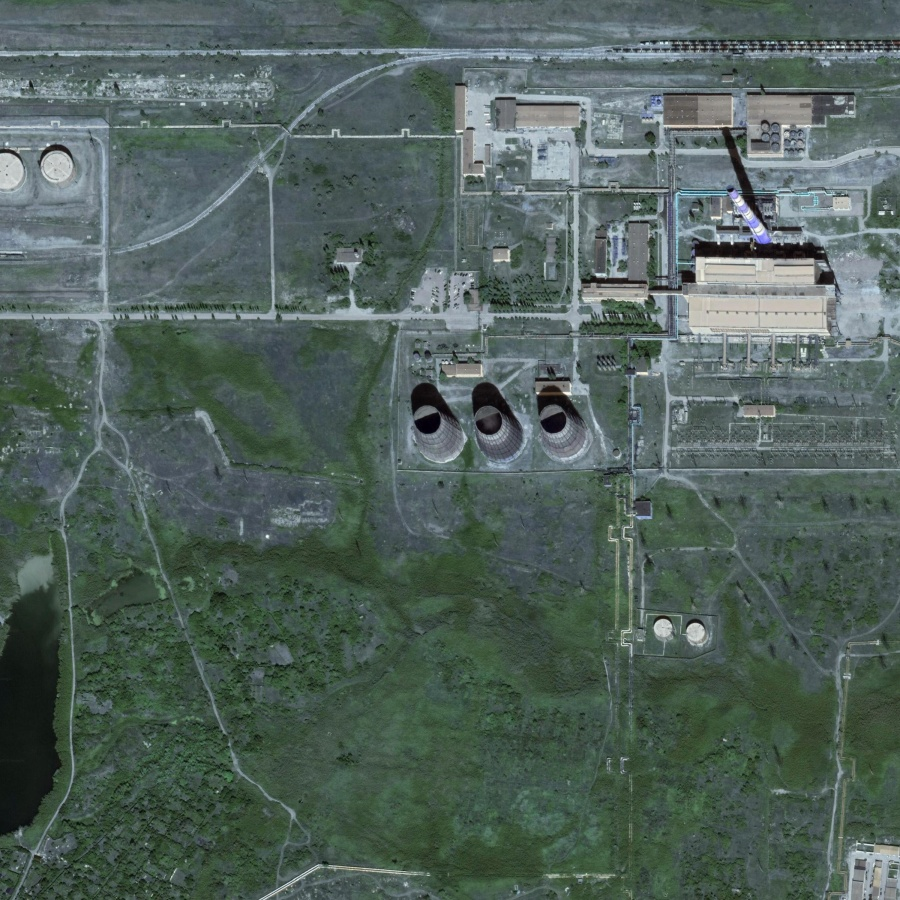PowerPlant: (384, 65, 866, 494)
